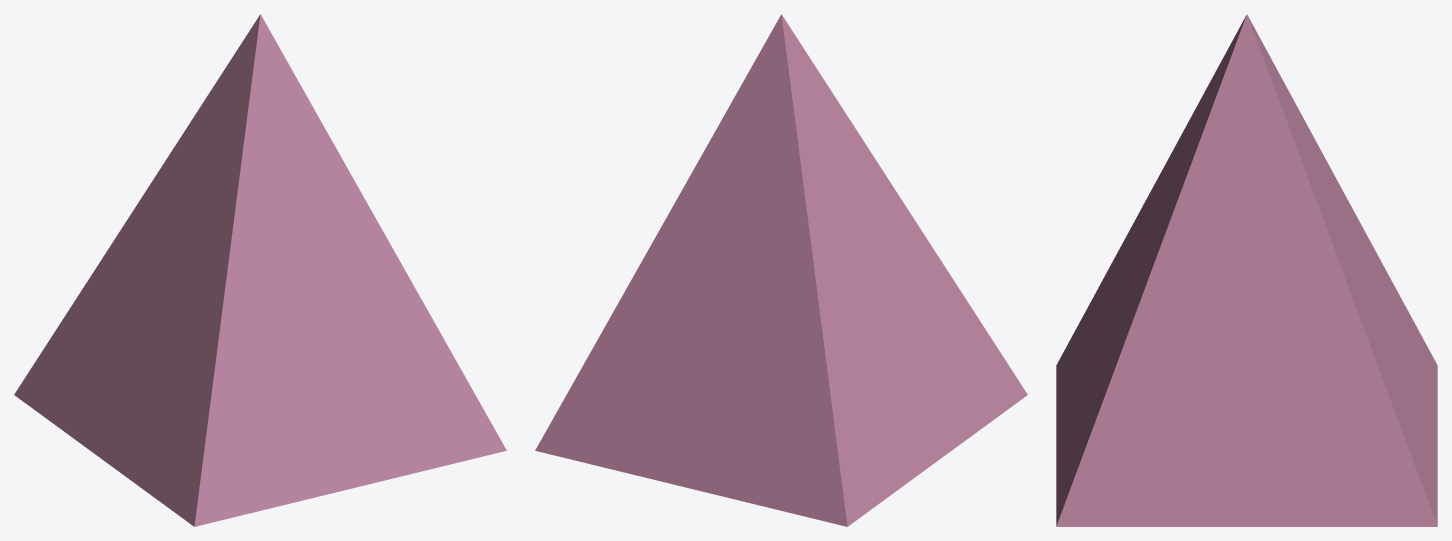
File: prop_pyramid_pink.glb
The picture shows the model from 3 angles, left to right: view 1: azimuth 30°, elevation 25°; view 2: azimuth 150°, elevation 25°; view 3: azimuth 270°, elevation 25°; orthographic projection. The views are drawn at different scales.
Visible parts, largest first — view 1: geometry_0; view 2: geometry_0; view 3: geometry_0.
Boxes of the visible parts, <box> form: geometry_0: <box>14,14,506,526</box>; geometry_0: <box>535,14,1027,526</box>; geometry_0: <box>1056,14,1437,526</box>.
Size of the model in its own units: 0.4 by 0.5 by 0.4.
